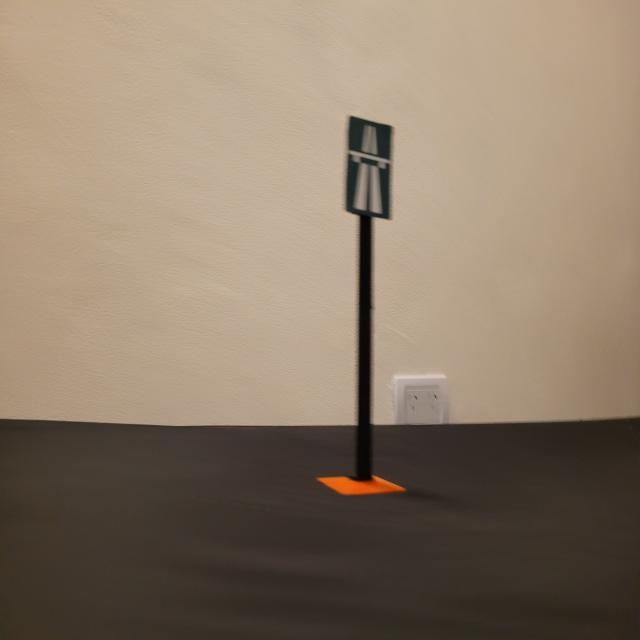highway_entrance: (344, 115, 393, 222)
